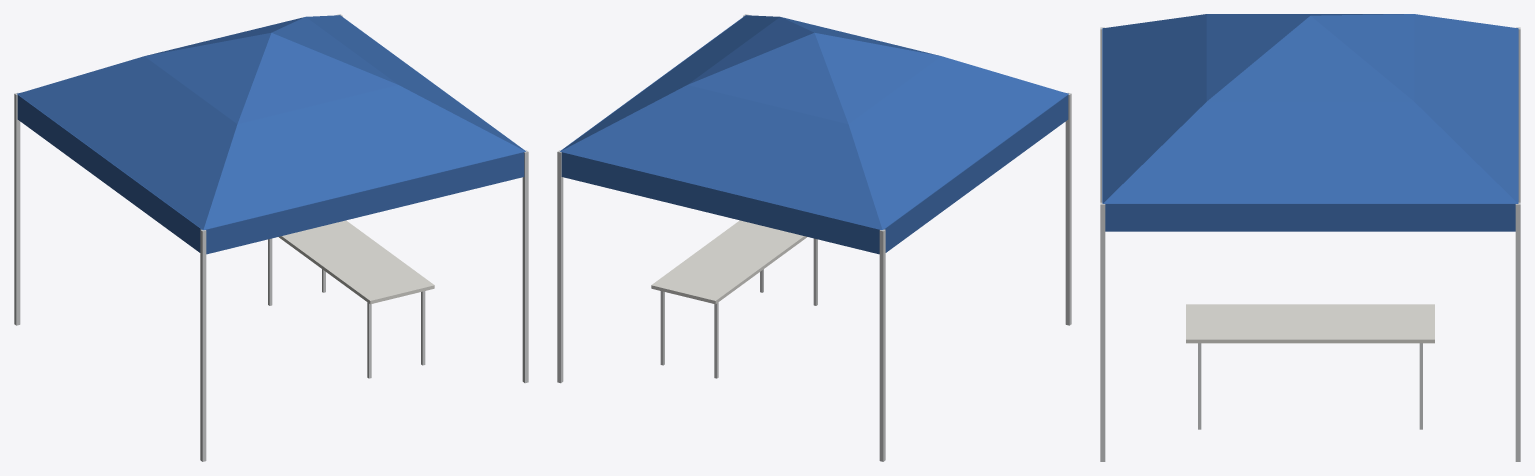
File: pist_tent_lod1.glb
3 views of the same model, side by side, from view 1: azimuth 30°, elevation 25°; view 2: azimuth 150°, elevation 25°; view 3: azimuth 270°, elevation 25° (orthographic). The views are drawn at different scales.
Parts seen in each view (by area): view 1: tent_roof_LOD1, valance_1_LOD1, table_top_LOD1, valance_2_LOD1, leg_3_LOD1, leg_2_LOD1, leg_0_LOD1; view 2: tent_roof_LOD1, valance_0_LOD1, table_top_LOD1, valance_2_LOD1, leg_0_LOD1, leg_1_LOD1, leg_3_LOD1; view 3: tent_roof_LOD1, valance_3_LOD1, table_top_LOD1, leg_1_LOD1, leg_2_LOD1, leg_0_LOD1, leg_3_LOD1.
Boxes of the visible parts, box(x1,y1,x2,y2) form: tent_roof_LOD1: box(18, 15, 525, 229); valance_1_LOD1: box(204, 151, 525, 254); table_top_LOD1: box(279, 220, 434, 304); valance_2_LOD1: box(17, 94, 202, 252); leg_3_LOD1: box(200, 229, 206, 461); leg_2_LOD1: box(522, 150, 528, 383); leg_0_LOD1: box(14, 92, 20, 325); tent_roof_LOD1: box(560, 15, 1067, 229); valance_0_LOD1: box(560, 151, 881, 254); table_top_LOD1: box(651, 220, 806, 304); valance_2_LOD1: box(883, 94, 1068, 252); leg_0_LOD1: box(879, 229, 885, 461); leg_1_LOD1: box(557, 150, 563, 383); leg_3_LOD1: box(1065, 92, 1071, 325); tent_roof_LOD1: box(1103, 14, 1517, 203); valance_3_LOD1: box(1103, 203, 1517, 231); table_top_LOD1: box(1186, 304, 1434, 343); leg_1_LOD1: box(1515, 202, 1520, 461); leg_2_LOD1: box(1100, 202, 1105, 461); leg_0_LOD1: box(1515, 27, 1520, 202); leg_3_LOD1: box(1100, 27, 1105, 202).
Size of the model in its own units: 3.04 by 2.85 by 3.04.
